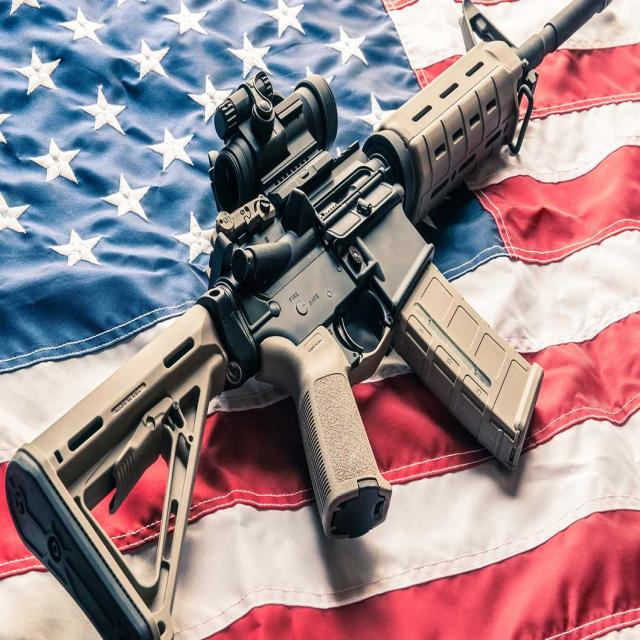Rifle: (3, 0, 640, 640)
